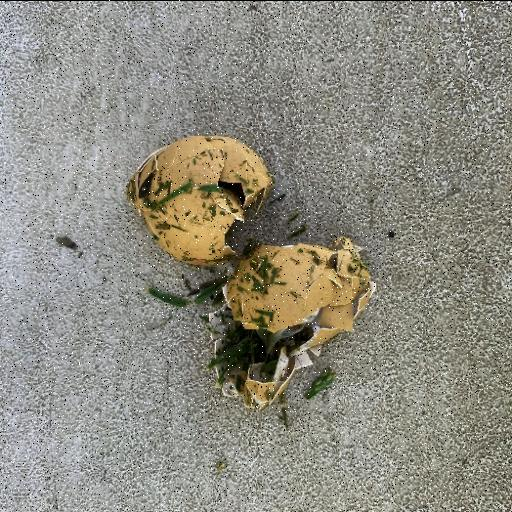Waste: (124, 132, 376, 414), (126, 134, 276, 267), (223, 236, 373, 336)
